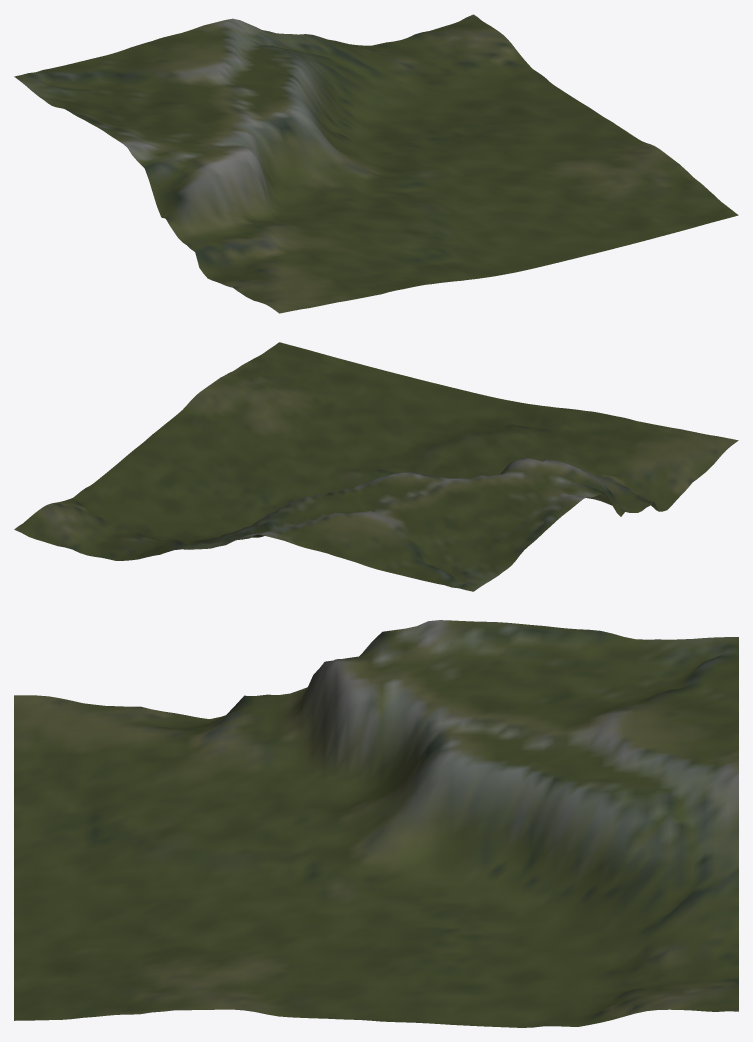
The model's file is TownLandscape_Mesh_x0125_1_1.fbx.
3 views of the same model, one above another, from view 1: azimuth 30°, elevation 25°; view 2: azimuth 150°, elevation 25°; view 3: azimuth 270°, elevation 25° (orthographic). The views are drawn at different scales.
Visible parts, largest first — view 1: Terrain; view 2: Terrain; view 3: Terrain.
Part boxes in pixels (x1,y1,x2,y2): Terrain: (14,14,738,313); Terrain: (14,342,738,591); Terrain: (14,620,738,1027).
Size of the model in its own units: 1024 by 165 by 1024.
